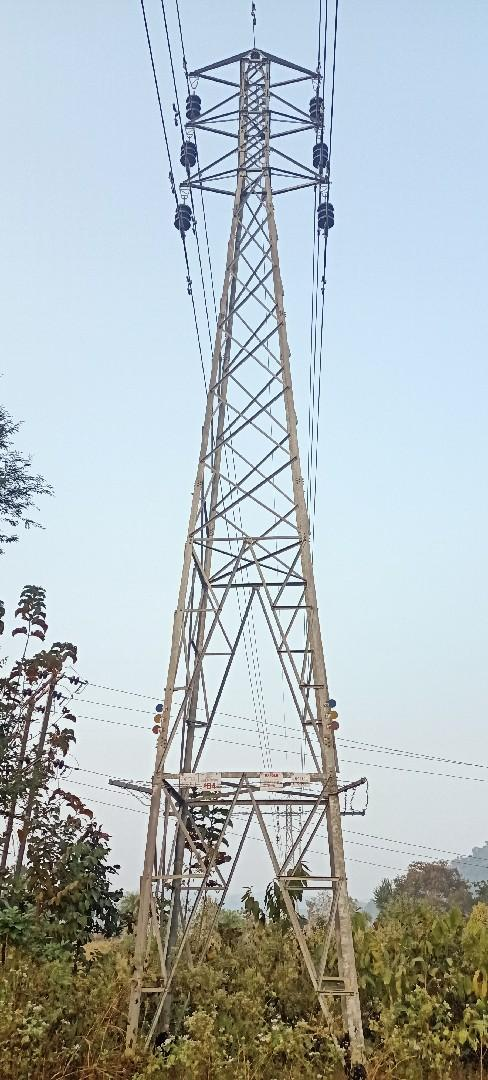GSM Antenna: (97, 39, 379, 990)
